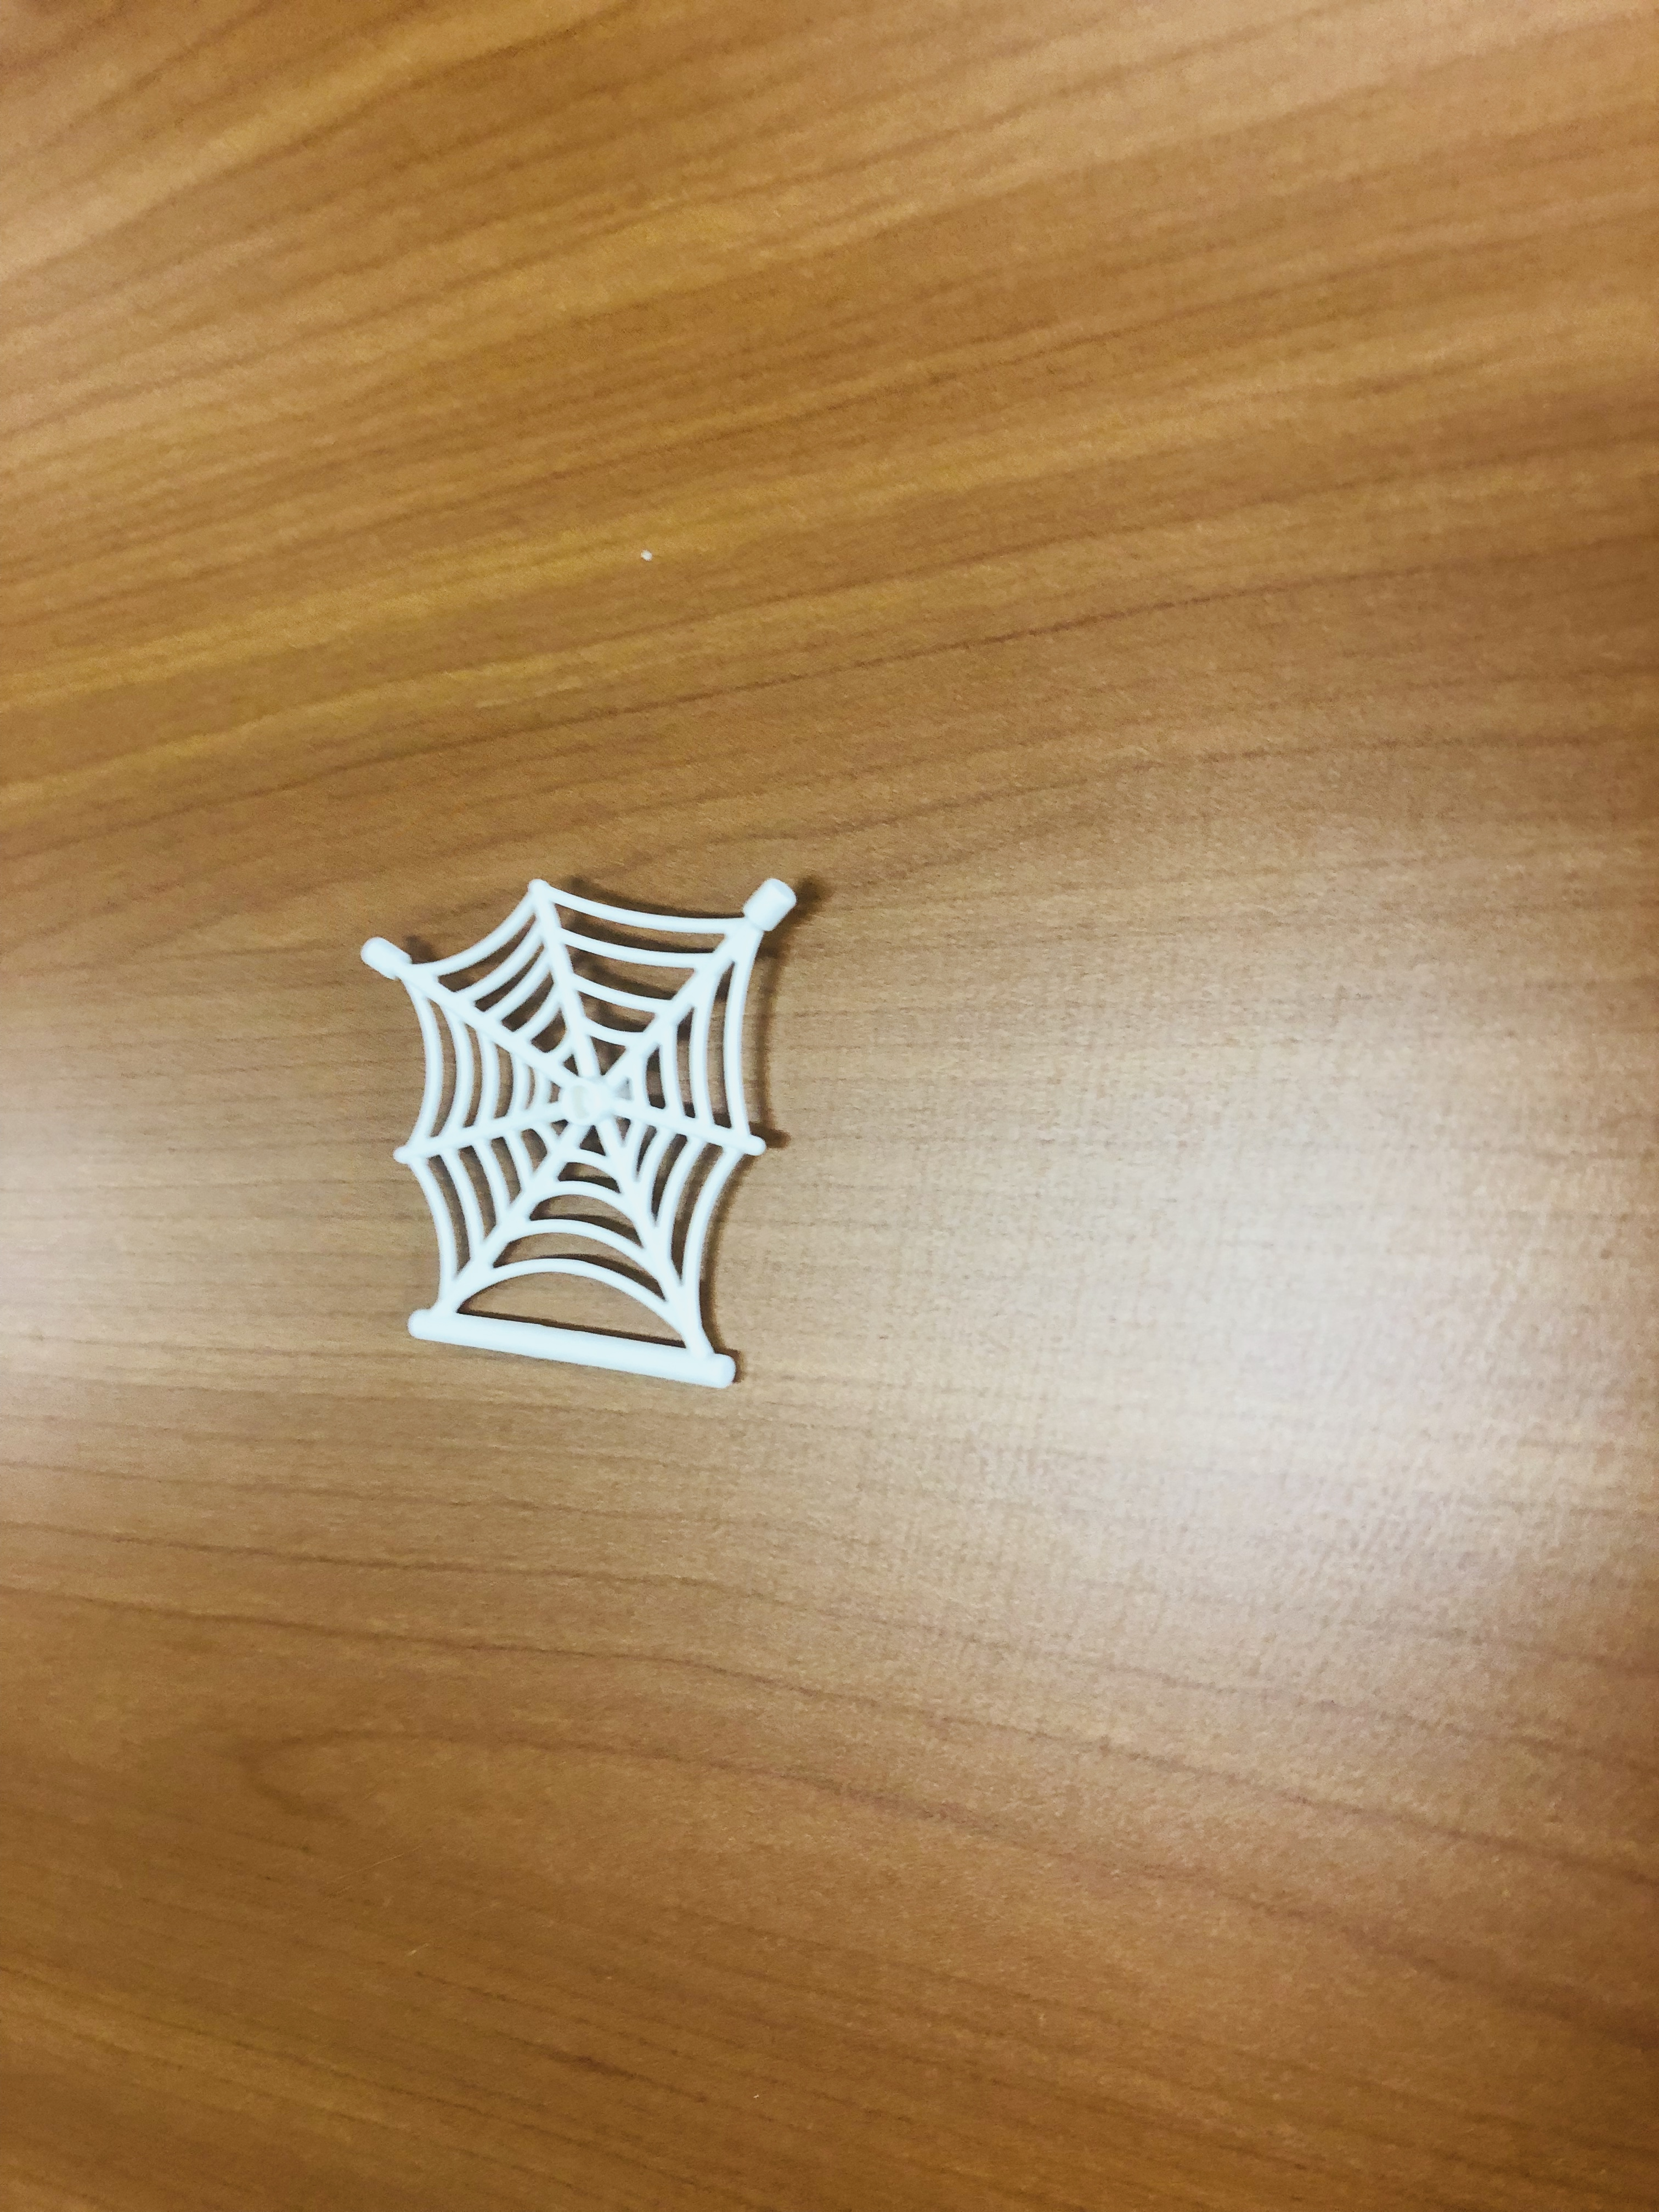web: (353, 872, 810, 1392)
